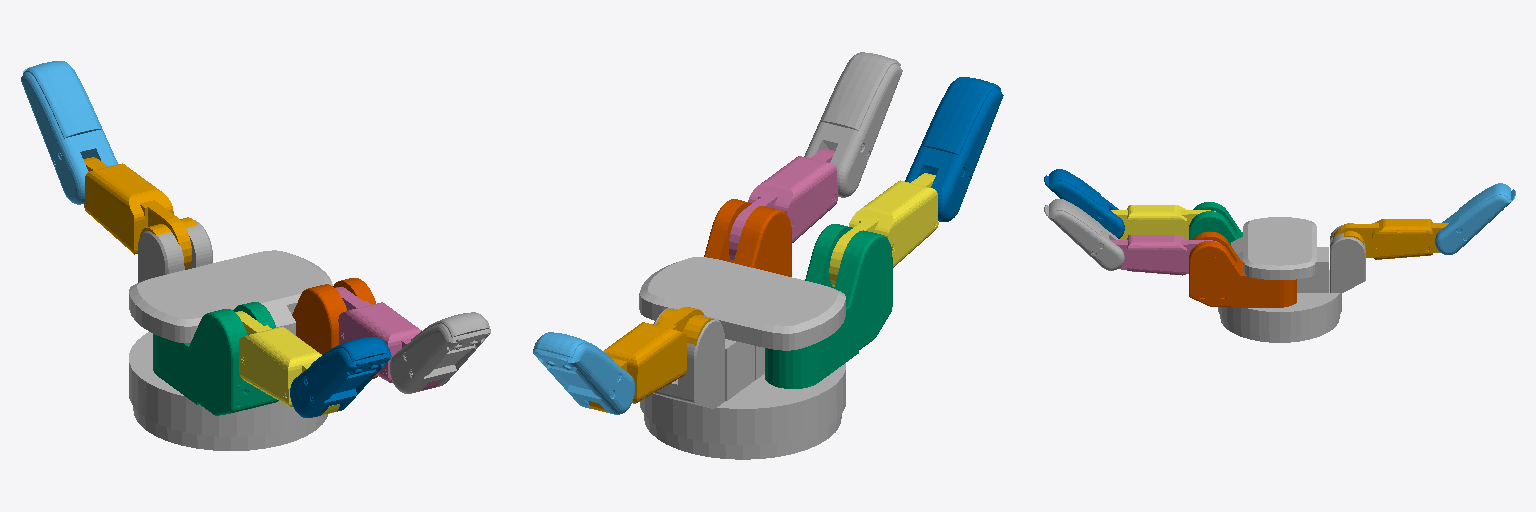
URDF robot description (bhand):
<?xml version="1.0" ?>
<!-- source: https://github.com/RobotnikAutomation/barrett_hand_common/tree/kinetic-devel/barrett_hand_description -->
<!-- =================================================================================== -->
<!-- |    This document was autogenerated by xacro from bh_alone.urdf.xacro            | -->
<!-- |    EDITING THIS FILE BY HAND IS NOT RECOMMENDED                                 | -->
<!-- =================================================================================== -->
<robot name="bhand">
    <!-- HAND WORLD_LINK (RED) -->
    <link name="root">
    <visual>
        <origin xyz="0 0 0"/>
    </visual>
    </link>
    <link name="basex">
        <visual>
            <origin xyz="0 0 0"/>
        </visual>
    </link>
    <link name="basey">
        <visual>
            <origin xyz="0 0 0"/>
        </visual>
    </link>
    <joint name="move_x" type="prismatic">
        <origin rpy="0 0 0" xyz="0.0 0 0.0"/>
        <parent link="root"/>
        <child link="basex"/>
        <axis xyz="1 0 0"/>
        <limit effort="100" lower="-1.5" upper="1.5" velocity="1.0"/>
    </joint>
    <joint name="move_y" type="prismatic">
        <origin rpy="0 0 0" xyz="0.0 0.0 0.0"/>
        <parent link="basex"/>
        <child link="basey"/>
        <axis xyz="0 1 0"/>
        <limit effort="50" lower="-1.5" upper="1.5" velocity="0.3"/>
    </joint>
    <joint name="move_z" type="prismatic">
        <origin rpy="0 0 0" xyz="0.0 0.0 0.0"/>
        <parent link="basey"/>
        <child link="rot_0"/>
        <axis xyz="0 0 1"/>
        <limit effort="50" lower="-1.5" upper="1.5" velocity="0.3"/>
    </joint>
    <link name="rot_0">
        <visual>
            <origin xyz="0 0 0"/>
        </visual>
    </link>
    <link name="rot_1">
        <visual>
            <origin xyz="0 0 0"/>
        </visual>
    </link>
    <link name="rot_2">
        <visual>
            <origin xyz="0 0 0"/>
        </visual>
    </link>

    <joint name="rot_r" type="continuous">
        <origin rpy="0 0 0" xyz="0.0 0.0 0.0"/>
        <parent link="rot_0"/>
        <child link="rot_1"/>
        <axis xyz="1 0 0"/>
    </joint>
    <joint name="rot_p" type="continuous">
        <origin rpy="0 0 0" xyz="0.0 0.0 0.0"/>
        <parent link="rot_1"/>
        <child link="rot_2"/>
        <axis xyz="0 1 0"/>
    </joint>
    <joint name="rot_y" type="continuous">
        <origin rpy="0 0 0" xyz="0.0 0.0 0.0"/>
        <parent link="rot_2"/>
        <child link="bh_base_link"/>
        <axis xyz="0 0 1"/>
    </joint>

    <link name="bh_base_link">
        <inertial>
            <mass value="3.0"/>
            <origin xyz="0 0 0"/>
            <inertia ixx="1.0" ixy="0.0" ixz="0.0" iyy="1.0" iyz="0.0" izz="1.0"/>
        </inertial>
        <visual>
            <origin rpy="0 0 0" xyz="0 0 0"/>
            <geometry>
                <mesh filename="../meshes/palm_282.dae.obj"/>
            </geometry>
            <material name="Grey">
                <color rgba="0.75 0.75 0.75 1.0"/>
            </material>
        </visual>
        <collision>
            <origin rpy="0 0 0 " xyz="0 0 0"/>
            <geometry>
                <mesh filename="../meshes/palm_282.dae.obj"/>
            </geometry>
            <contact_coefficients kd="1.0" kp="1000.0" mu="1000"/>
        </collision>
    </link>
    <!-- finger 3 -->
    <!-- finger 31 link -->
    <link name="bh_finger_31_link">
        <inertial>
            <mass value="0.1"/>
            <origin rpy="0 0 0" xyz="-0.046 0 0"/>
            <inertia ixx="0.01" ixy="0" ixz="0" iyy="0.01" iyz="0" izz="0.01"/>
        </inertial>
        <visual>
            <origin rpy="0 0 0" xyz="-0.04 0 0"/>
            <geometry>
                <mesh filename="../meshes/knuckle_fixed.dae.obj"/>
            </geometry>
            <material name="Black"/>
        </visual>
        <collision>
            <origin rpy="0 0 0" xyz="-0.04 0 0"/>
            <geometry>
                <mesh filename="../meshes/knuckle_fixed.dae.obj"/>
            </geometry>
            <contact_coefficients kd="1.0" kp="1000.0" mu="1000"/>
        </collision>
    </link>
    <!-- joint between BH_palm_link and BH_finger_31_link -->
    <!-- finger3 is the center finger and is fixed -->
    <joint name="bh_j31_joint" type="fixed">
        <parent link="bh_base_link"/>
        <child link="bh_finger_31_link"/>
        <origin rpy="0 0 -1.570796327" xyz="0 0 0.0252"/>
    </joint>
    <!-- finger 32 link -->
    <link name="bh_finger_32_link">
        <inertial>
            <mass value="0.1"/>
            <origin rpy="0 0 0" xyz="0 0 0"/>
            <inertia ixx="0.01" ixy="0" ixz="0" iyy="0.01" iyz="0" izz="0.01"/>
        </inertial>
        <visual>
            <origin rpy="0 0 0" xyz="0 0 0"/>
            <geometry>
                <mesh filename="../meshes/finger.dae.obj"/>
            </geometry>
            <material name="Blue"/>
        </visual>
        <collision>
            <origin rpy="0 0 0" xyz="0 0 0"/>
            <geometry>
                <mesh filename="../meshes/finger.dae.obj"/>
            </geometry>
            <contact_coefficients kd="1.0" kp="1000.0" mu="1000"/>
        </collision>
    </link>
    <!-- joint between BH_finger_31_link and BH_finger_32_link -->
    <joint name="bh_j32_joint" type="revolute">
        <parent link="bh_finger_31_link"/>
        <child link="bh_finger_32_link"/>
        <origin rpy="1.5708 -8.8281E-17 0" xyz="-0.05 0 0.0339"/>
        <axis xyz="0 0 -1"/>
        <limit effort="30.0" lower="0.0" upper="2.44" velocity="2.0"/>
        <dynamics damping="100.0" friction="1.0"/>
    </joint>
    <transmission name="bh_j32_transmission">
        <type>transmission_interface/SimpleTransmission</type>
        <joint name="bh_j32_joint">
            <hardwareInterface>PositionJointInterface</hardwareInterface>
        </joint>
        <actuator name="bh_j32">
            <hardwareInterface>PositionJointInterface</hardwareInterface>
            <mechanicalReduction>1</mechanicalReduction>
            <motorTorqueConstant>1</motorTorqueConstant>
        </actuator>
    </transmission>
    <!-- finger 33 link -->
    <link name="bh_finger_33_link">
        <inertial>
            <mass value="0.1"/>
            <origin rpy="0 0 0" xyz="0 0 0"/>
            <inertia ixx="0.01" ixy="0" ixz="0" iyy="0.01" iyz="0" izz="0.01"/>
        </inertial>
        <visual>
            <origin rpy="0 0 0" xyz="0 0 0"/>
            <geometry>
                <mesh filename="../meshes/finger_tip.dae.obj"/>
            </geometry>
            <material name="Blue"/>
        </visual>
        <collision>
            <origin rpy="0 0 0" xyz="0 0 0"/>
            <geometry>
                <mesh filename="../meshes/finger_tip.dae.obj"/>
            </geometry>
            <contact_coefficients kd="1.0" kp="1000.0" mu="1000"/>
        </collision>
    </link>
    <!-- joint between BH_finger_32_link and BH_finger_33_link -->
    <joint name="bh_j33_joint" type="revolute">
        <parent link="bh_finger_32_link"/>
        <child link="bh_finger_33_link"/>
        <origin rpy="0 0 0" xyz="-0.069936 0.003 0"/>
        <axis xyz="0 0 -1"/>
        <mimic joint="bh_j32_joint" multiplier="0.344262295082"/>
        <limit effort="30.0" lower="0.0" upper="0.84" velocity="2.0"/>
        <dynamics damping="100.0" friction="1.0"/>
    </joint>
    <transmission name="bh_j33_transmission">
        <type>transmission_interface/SimpleTransmission</type>
        <joint name="bh_j33_joint">
            <hardwareInterface>PositionJointInterface</hardwareInterface>
        </joint>
        <actuator name="bh_j33">
            <hardwareInterface>PositionJointInterface</hardwareInterface>
            <mechanicalReduction>1</mechanicalReduction>
            <motorTorqueConstant>1</motorTorqueConstant>
        </actuator>
    </transmission>
    <!-- finger 1 -->
    <!-- finger 11 link -->
    <link name="bh_finger_11_link">
        <inertial>
            <mass value="0.1"/>
            <origin rpy="0 0 0" xyz="-0.046 0 0"/>
            <inertia ixx="0.01" ixy="0" ixz="0" iyy="0.01" iyz="0" izz="0.01"/>
        </inertial>
        <visual>
            <origin rpy="0 0 0" xyz="0 0 0"/>
            <geometry>
                <mesh filename="../meshes/knuckle.dae.obj"/>
            </geometry>
            <material name="Green"/>
        </visual>
        <collision>
            <origin rpy="0 0 0" xyz="0 0 0"/>
            <geometry>
                <mesh filename="../meshes/knuckle.dae.obj"/>
            </geometry>
        </collision>
    </link>
    <!-- joint between BH_palm_link and BH_finger_11_link -->
    <joint name="bh_j11_joint" type="revolute">
        <parent link="bh_base_link"/>
        <child link="bh_finger_11_link"/>
        <origin rpy="0 0 1.5708" xyz="-0.025 0 0.0252"/>
        <axis xyz="0 0 -1"/>
        <limit effort="30.0" lower="0" upper="3.1416" velocity="2.0"/>
        <dynamics damping="100.0" friction="1.0"/>
    </joint>
    <transmission name="bh_j11_transmission">
        <type>transmission_interface/SimpleTransmission</type>
        <joint name="bh_j11_joint">
            <hardwareInterface>PositionJointInterface</hardwareInterface>
        </joint>
        <actuator name="bh_j11">
            <hardwareInterface>PositionJointInterface</hardwareInterface>
            <mechanicalReduction>1</mechanicalReduction>
            <motorTorqueConstant>1</motorTorqueConstant>
        </actuator>
    </transmission>
    <!-- finger 12 link -->
    <link name="bh_finger_12_link">
        <inertial>
            <mass value="0.1"/>
            <origin rpy="0 0 0" xyz="0 0 0"/>
            <inertia ixx="0.01" ixy="0" ixz="0" iyy="0.01" iyz="0" izz="0.01"/>
        </inertial>
        <visual>
            <origin rpy="0 0 0" xyz="0 0 0"/>
            <geometry>
                <mesh filename="../meshes/finger.dae.obj"/>
            </geometry>
            <material name="Blue"/>
        </visual>
        <collision>
            <origin rpy="0 0 0" xyz="0 0 0"/>
            <geometry>
                <mesh filename="../meshes/finger.dae.obj"/>
            </geometry>
            <contact_coefficients kd="1.0" kp="1000.0" mu="1000"/>
        </collision>
    </link>
    <!-- joint between BH_finger_11_link and BH_finger_12_link -->
    <joint name="bh_j12_joint" type="revolute">
        <parent link="bh_finger_11_link"/>
        <child link="bh_finger_12_link"/>
        <origin rpy="1.5708 0 0" xyz="-0.05 0 0.0339"/>
        <axis xyz="0 0 -1"/>
        <limit effort="30.0" lower="0.0" upper="2.44" velocity="2.0"/>
        <dynamics damping="100.0" friction="1.0"/>
    </joint>
    <transmission name="bh_j12_transmission">
        <type>transmission_interface/SimpleTransmission</type>
        <joint name="bh_j12_joint">
            <hardwareInterface>PositionJointInterface</hardwareInterface>
        </joint>
        <actuator name="bh_j12">
            <hardwareInterface>PositionJointInterface</hardwareInterface>
            <mechanicalReduction>1</mechanicalReduction>
            <motorTorqueConstant>1</motorTorqueConstant>
        </actuator>
    </transmission>
    <!-- finger 13 link -->
    <link name="bh_finger_13_link">
        <inertial>
            <mass value="0.1"/>
            <origin rpy="0 0 0" xyz="0 0 0"/>
            <inertia ixx="0.01" ixy="0" ixz="0" iyy="0.01" iyz="0" izz="0.01"/>
        </inertial>
        <visual>
            <origin rpy="0 0 0" xyz="0 0 0"/>
            <geometry>
                <mesh filename="../meshes/finger_tip.dae.obj"/>
            </geometry>
            <material name="Blue"/>
        </visual>
        <collision>
            <origin rpy="0 0 0" xyz="0 0 0"/>
            <geometry>
                <mesh filename="../meshes/finger_tip.dae.obj"/>
            </geometry>
            <contact_coefficients kd="1.0" kp="1000.0" mu="1000"/>
        </collision>
    </link>
    <!-- joint between BH_finger_12_link and BH_finger_13_link -->
    <joint name="bh_j13_joint" type="revolute">
        <parent link="bh_finger_12_link"/>
        <child link="bh_finger_13_link"/>
        <origin rpy="0 0 0" xyz="-0.069936 0.003 0"/>
        <axis xyz="0 0 -1"/>
        <mimic joint="bh_j12_joint" multiplier="0.344262295082"/>
        <limit effort="30.0" lower="0.0" upper="0.84" velocity="2.0"/>
        <dynamics damping="100.0" friction="1.0"/>
    </joint>
    <transmission name="bh_j13_transmission">
        <type>transmission_interface/SimpleTransmission</type>
        <joint name="bh_j13_joint">
            <hardwareInterface>PositionJointInterface</hardwareInterface>
        </joint>
        <actuator name="bh_j13">
            <hardwareInterface>PositionJointInterface</hardwareInterface>
            <mechanicalReduction>1</mechanicalReduction>
            <motorTorqueConstant>1</motorTorqueConstant>
        </actuator>
    </transmission>
    <!-- finger 2 -->
    <!-- finger 21 link -->
    <link name="bh_finger_21_link">
        <inertial>
            <mass value="0.1"/>
            <origin rpy="0 0 0" xyz="-0.046 0 0"/>
            <inertia ixx="0.01" ixy="0" ixz="0" iyy="0.01" iyz="0" izz="0.01"/>
        </inertial>
        <visual>
            <origin rpy="0 0 0" xyz="0 0 0"/>
            <geometry>
                <mesh filename="../meshes/knuckle.dae.obj"/>
            </geometry>
            <material name="Green"/>
        </visual>
        <collision>
            <origin rpy="0 0 0" xyz="0 0 0"/>
            <geometry>
                <mesh filename="../meshes/knuckle.dae.obj"/>
            </geometry>
        </collision>
    </link>
    <!-- joint between BH_palm_link and BH_finger_21_link -->
    <joint name="bh_j21_joint" type="revolute">
        <parent link="bh_base_link"/>
        <child link="bh_finger_21_link"/>
        <origin rpy="0 0 1.5708" xyz="0.025 0 0.0252"/>
        <axis xyz="0 0 1"/>
        <mimic joint="bh_j11_joint" multiplier="1"/>
        <limit effort="30.0" lower="0" upper="3.1416" velocity="2.0"/>
        <dynamics damping="100.0" friction="1.0"/>
    </joint>
    <transmission name="bh_j21_transmission">
        <type>transmission_interface/SimpleTransmission</type>
        <joint name="bh_j21_joint">
            <hardwareInterface>PositionJointInterface</hardwareInterface>
        </joint>
        <actuator name="bh_j21">
            <hardwareInterface>PositionJointInterface</hardwareInterface>
            <mechanicalReduction>1</mechanicalReduction>
            <motorTorqueConstant>1</motorTorqueConstant>
        </actuator>
    </transmission>
    <!-- finger 12 link -->
    <link name="bh_finger_22_link">
        <inertial>
            <mass value="0.1"/>
            <origin rpy="0 0 0" xyz="0 0 0"/>
            <inertia ixx="0.01" ixy="0" ixz="0" iyy="0.01" iyz="0" izz="0.01"/>
        </inertial>
        <visual>
            <origin rpy="0 0 0" xyz="0 0 0"/>
            <geometry>
                <mesh filename="../meshes/finger.dae.obj"/>
            </geometry>
            <material name="Blue"/>
        </visual>
        <collision>
            <origin rpy="0 0 0" xyz="0 0 0"/>
            <geometry>
                <mesh filename="../meshes/finger.dae.obj"/>
            </geometry>
            <contact_coefficients kd="1.0" kp="1000.0" mu="1000"/>
        </collision>
    </link>
    <!-- joint between BH_finger_21_link and BH_finger_22_link -->
    <joint name="bh_j22_joint" type="revolute">
        <parent link="bh_finger_21_link"/>
        <child link="bh_finger_22_link"/>
        <origin rpy="1.5708 -8.8281E-17 0" xyz="-0.05 0 0.0339"/>
        <axis xyz="0 0 -1"/>
        <limit effort="30.0" lower="0.0" upper="2.44" velocity="2.0"/>
        <dynamics damping="100.0" friction="1.0"/>
    </joint>
    <transmission name="bh_j22_transmission">
        <type>transmission_interface/SimpleTransmission</type>
        <joint name="bh_j22_joint">
            <hardwareInterface>PositionJointInterface</hardwareInterface>
        </joint>
        <actuator name="bh_j22">
            <hardwareInterface>PositionJointInterface</hardwareInterface>
            <mechanicalReduction>1</mechanicalReduction>
            <motorTorqueConstant>1</motorTorqueConstant>
        </actuator>
    </transmission>
    <!-- finger 23 link -->
    <link name="bh_finger_23_link">
        <inertial>
            <mass value="0.1"/>
            <origin rpy="0 0 0" xyz="0 0 0"/>
            <inertia ixx="0.01" ixy="0" ixz="0" iyy="0.01" iyz="0" izz="0.01"/>
        </inertial>
        <visual>
            <origin rpy="0 0 0" xyz="0 0 0"/>
            <geometry>
                <mesh filename="../meshes/finger_tip.dae.obj"/>
            </geometry>
            <material name="Blue"/>
        </visual>
        <collision>
            <origin rpy="0 0 0" xyz="0 0 0"/>
            <geometry>
                <mesh filename="../meshes/finger_tip.dae.obj"/>
            </geometry>
            <contact_coefficients kd="1.0" kp="1000.0" mu="1000"/>
        </collision>
    </link>
    <!-- joint between BH_finger_22_link and BH_finger_23_link -->
    <joint name="bh_j23_joint" type="revolute">
        <parent link="bh_finger_22_link"/>
        <child link="bh_finger_23_link"/>
        <origin rpy="0 0 0" xyz="-0.069936 0.003 0"/>
        <axis xyz="0 0 -1"/>
        <mimic joint="bh_j22_joint" multiplier="0.344262295082"/>
        <limit effort="30.0" lower="0.0" upper="0.84" velocity="2.0"/>
        <dynamics damping="100.0" friction="1.0"/>
    </joint>
    <transmission name="bh_j23_transmission">
        <type>transmission_interface/SimpleTransmission</type>
        <joint name="bh_j23_joint">
            <hardwareInterface>PositionJointInterface</hardwareInterface>
        </joint>
        <actuator name="bh_j23">
            <hardwareInterface>PositionJointInterface</hardwareInterface>
            <mechanicalReduction>1</mechanicalReduction>
            <motorTorqueConstant>1</motorTorqueConstant>
        </actuator>
    </transmission>
</robot>

--- Render facts (derived) ---
Views: 3 orthographic renders of the robot side by side, from view 1: azimuth 30°, elevation 25°; view 2: azimuth 150°, elevation 25°; view 3: azimuth 270°, elevation 25°.
Model bhand with 16 links and 15 joints (8 revolute, 3 continuous, 3 prismatic, 1 fixed), rooted at root, posed every joint at zero.
Links seen in each view (by area): view 1: bh_base_link, bh_finger_11_link, bh_finger_33_link, bh_finger_32_link, bh_finger_13_link, bh_finger_23_link, bh_finger_12_link, bh_finger_21_link, bh_finger_22_link, bh_finger_31_link; view 2: bh_base_link, bh_finger_11_link, bh_finger_13_link, bh_finger_23_link, bh_finger_32_link, bh_finger_12_link, bh_finger_22_link, bh_finger_33_link, bh_finger_21_link, bh_finger_31_link; view 3: bh_base_link, bh_finger_21_link, bh_finger_32_link, bh_finger_22_link, bh_finger_33_link, bh_finger_23_link, bh_finger_12_link, bh_finger_13_link, bh_finger_31_link, bh_finger_11_link.
Boxes of the visible links, box(x1,y1,x2,y2) form: bh_base_link: box(129, 250, 332, 450); bh_finger_11_link: box(153, 302, 278, 415); bh_finger_33_link: box(21, 61, 117, 204); bh_finger_32_link: box(83, 157, 197, 269); bh_finger_13_link: box(290, 337, 391, 417); bh_finger_23_link: box(390, 312, 490, 393); bh_finger_12_link: box(235, 311, 339, 414); bh_finger_21_link: box(292, 278, 377, 378); bh_finger_22_link: box(335, 287, 439, 390); bh_finger_31_link: box(138, 220, 212, 282); bh_base_link: box(639, 257, 845, 459); bh_finger_11_link: box(765, 224, 892, 388); bh_finger_13_link: box(905, 77, 1003, 221); bh_finger_23_link: box(804, 52, 902, 197); bh_finger_32_link: box(588, 307, 713, 412); bh_finger_12_link: box(829, 173, 938, 286); bh_finger_22_link: box(729, 148, 837, 262); bh_finger_33_link: box(533, 332, 634, 414); bh_finger_21_link: box(704, 199, 791, 276); bh_finger_31_link: box(653, 308, 724, 408); bh_base_link: box(1218, 217, 1341, 342); bh_finger_21_link: box(1189, 231, 1296, 307); bh_finger_32_link: box(1333, 219, 1448, 259); bh_finger_22_link: box(1111, 235, 1218, 275); bh_finger_33_link: box(1435, 183, 1515, 254); bh_finger_23_link: box(1044, 199, 1124, 270); bh_finger_12_link: box(1111, 205, 1215, 239); bh_finger_13_link: box(1044, 169, 1124, 238); bh_finger_31_link: box(1330, 225, 1365, 292); bh_finger_11_link: box(1189, 202, 1242, 244).
Bounding box of the posed robot: 0.089 × 0.3353 × 0.1024 m (x, y, z).
Meshes: 5 distinct files referenced, 10 mesh visuals loaded (5 OBJ).
